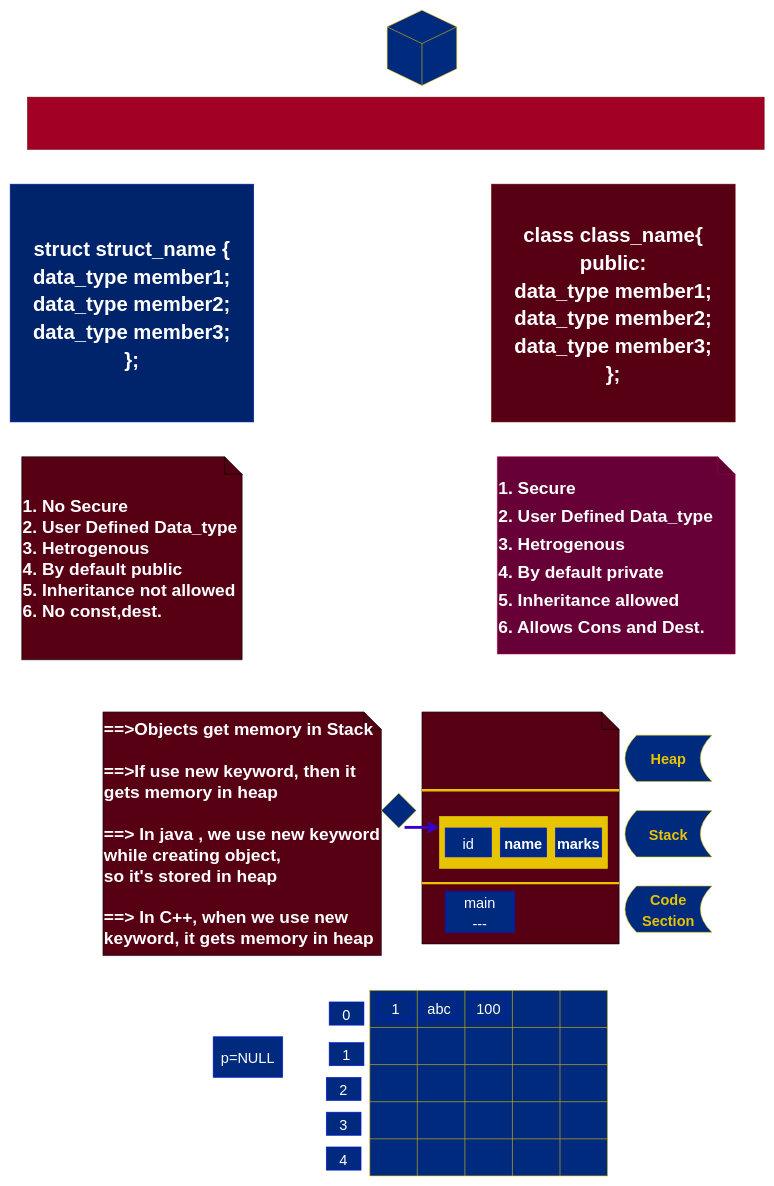
The diagram is 774 pixels wide and 1186 high, and some of its shapes have lost their labels. Here are the shapes that lost their labels. From the top down, the centre of each, then its label:
At point 395,123: "Data Structure & Algo. | Array | Pointers | Structure | Class".
At point 398,810: "s1".
